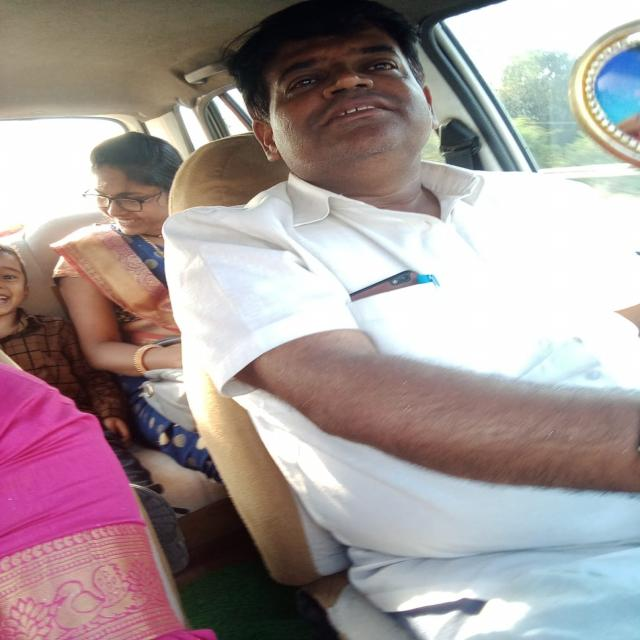person: (227, 0, 456, 189), (82, 117, 190, 248), (0, 240, 35, 335)
